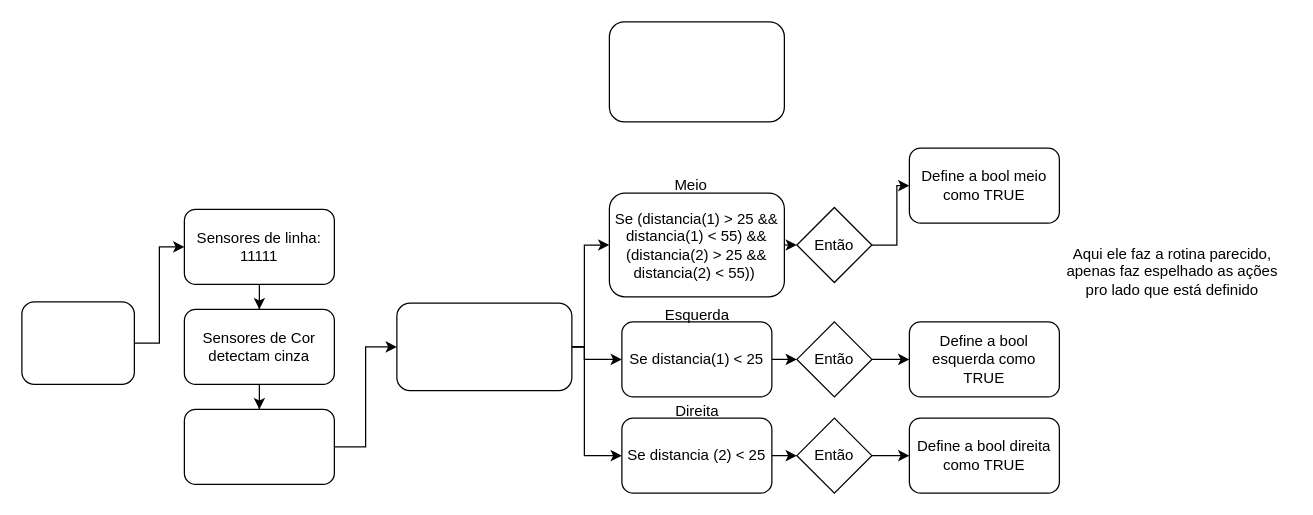
Image size: 1313x515. Some labels were removed from this diagram. The box of each missing label's shape, as (x1, y1, x2, y2) in pixels:
bool meio = false; bool esquerda = false; bool direita = false;: (608, 21, 784, 122)
Condição Pra entrar no resgate: (21, 301, 134, 384)
Infra-Vemelhos laterais, distância < 45: (183, 408, 334, 484)
Mede qual lado dos infra está menor, para alinhar na parede: (396, 302, 572, 391)
